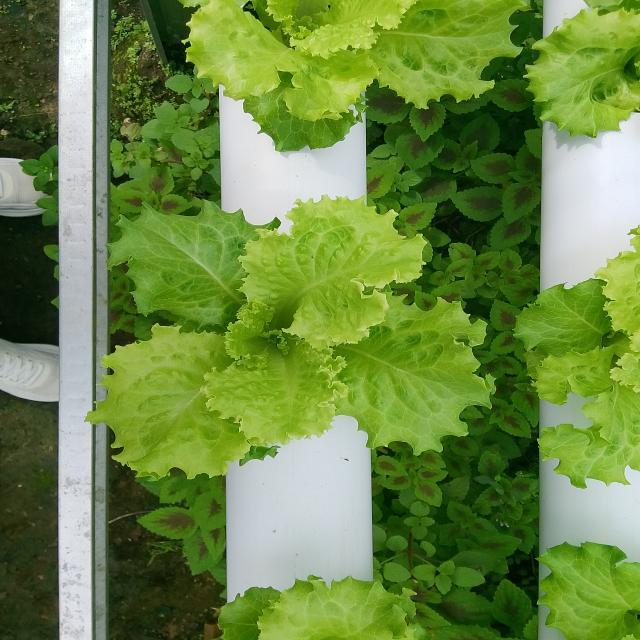Baby: (85, 196, 490, 480), (186, 0, 530, 151), (515, 226, 640, 489), (219, 560, 537, 640)
